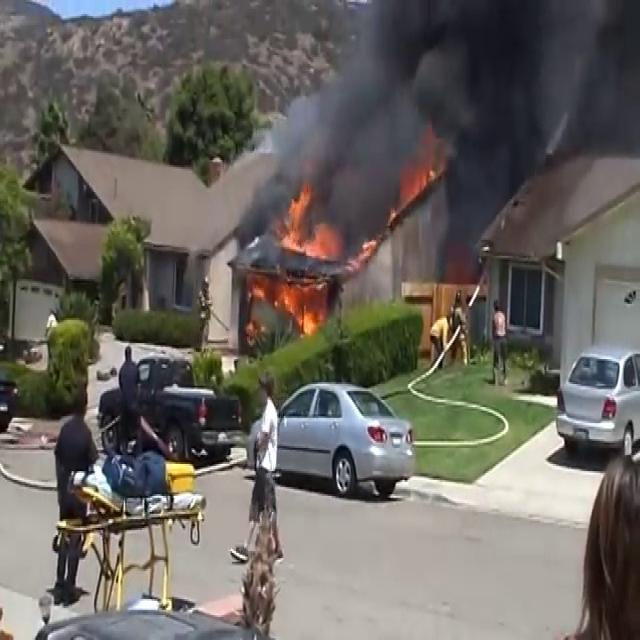Fire: (268, 183, 338, 257), (254, 276, 324, 348)
Smoke: (257, 0, 639, 236)
